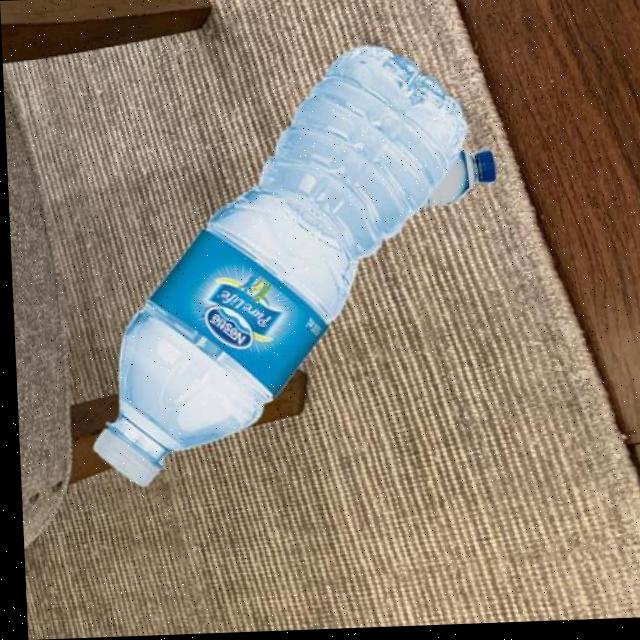bottle: (72, 43, 506, 490)
